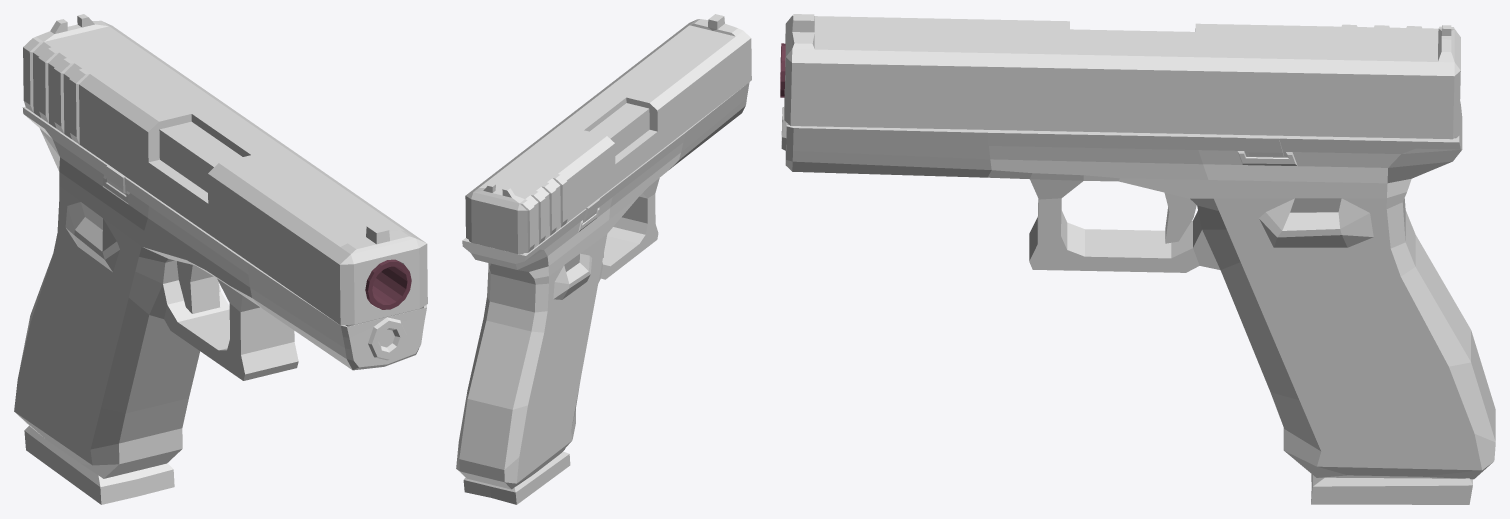
The model's file is this works (Maybe)2 glock.fbx.
3 renders of one model, left to right at view 1: azimuth 30°, elevation 25°; view 2: azimuth 150°, elevation 25°; view 3: azimuth 270°, elevation 25°, orthographic. The views are drawn at different scales.
Parts seen in each view (by area): view 1: Glock_20; view 2: Glock_20; view 3: Glock_20.
Boxes of the visible parts, x1,y1,x2,y2 form: Glock_20: [14, 14, 427, 504]; Glock_20: [456, 14, 751, 504]; Glock_20: [780, 14, 1495, 504].
Bounding box in the file's own units: 1.71 × 7.38 × 10.21.
